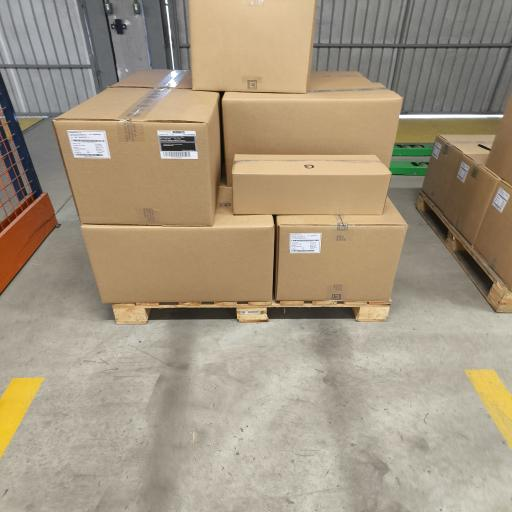pallet: (417, 192, 511, 312), (113, 301, 390, 324), (390, 161, 428, 175)
